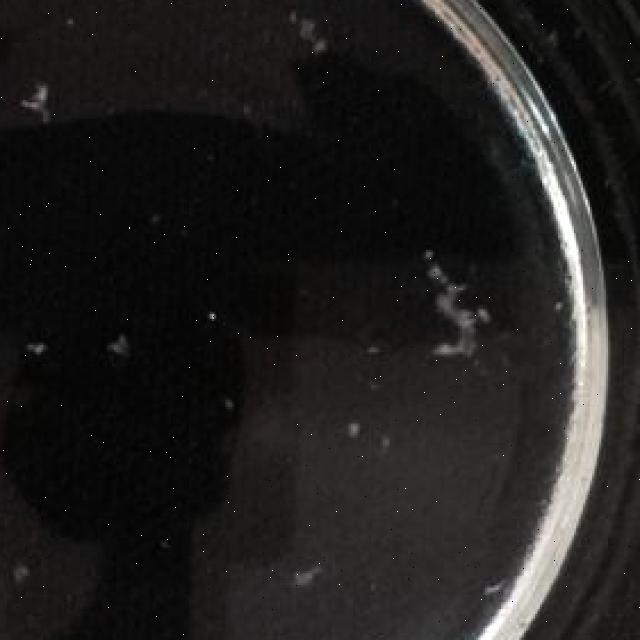Microplastic: (403, 233, 492, 364), (7, 57, 61, 129), (282, 4, 342, 66), (94, 328, 134, 374), (289, 559, 328, 600), (9, 547, 39, 597), (16, 331, 52, 371), (371, 431, 410, 466), (340, 407, 364, 447)
